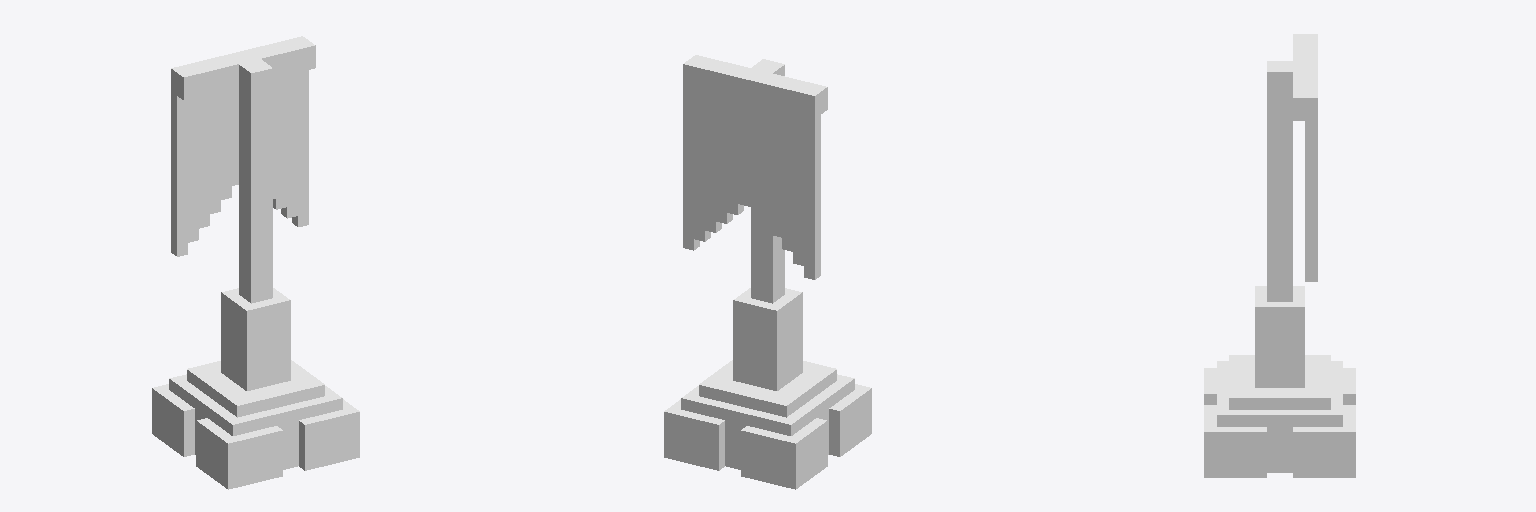
The model's file is flag.red.obj.
3 renders of one model, left to right at view 1: azimuth 30°, elevation 25°; view 2: azimuth 150°, elevation 25°; view 3: azimuth 270°, elevation 25°, orthographic.
Parts seen in each view (by area): view 1: object 1; view 2: object 1; view 3: object 1.
Part boxes in pixels (x1,y1,x2,y2): object 1: (152, 36, 359, 489); object 1: (664, 55, 871, 489); object 1: (1204, 34, 1355, 477).
Size of the model in its own units: 1.2 by 3.3 by 1.2.